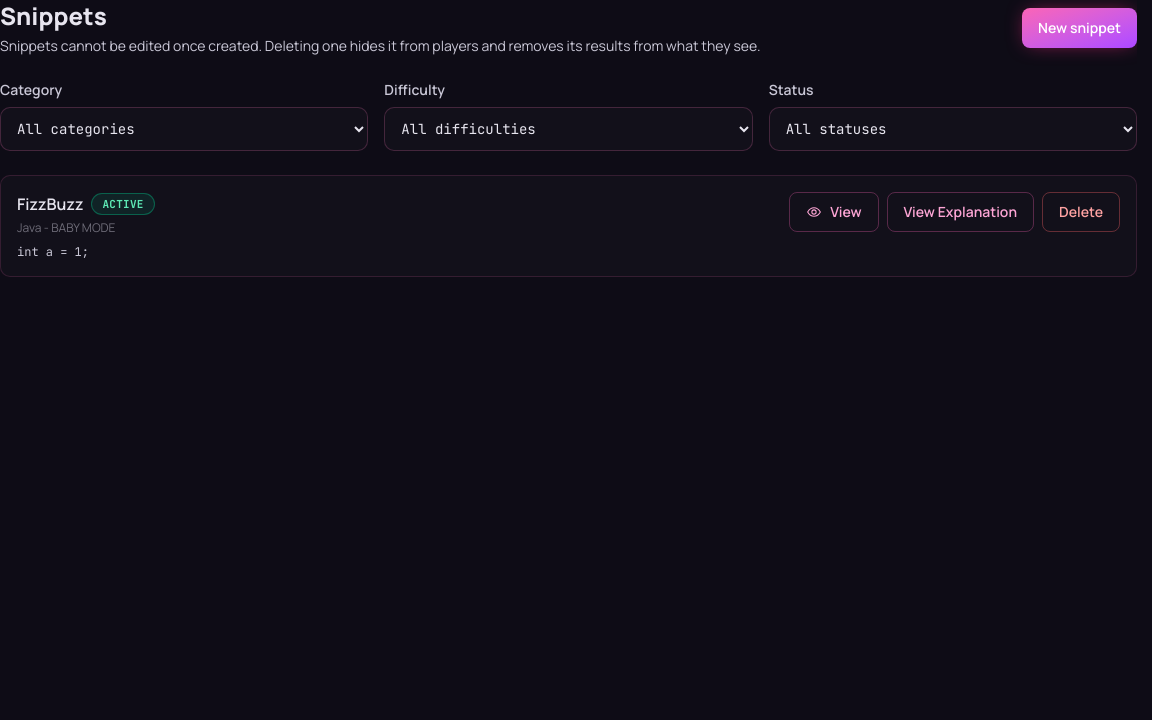
Test: SnippetsPage › deletes an active snippet after confirming it cannot be undone
Click the button "Delete" at (1081, 212), box [1042,192,1120,232]
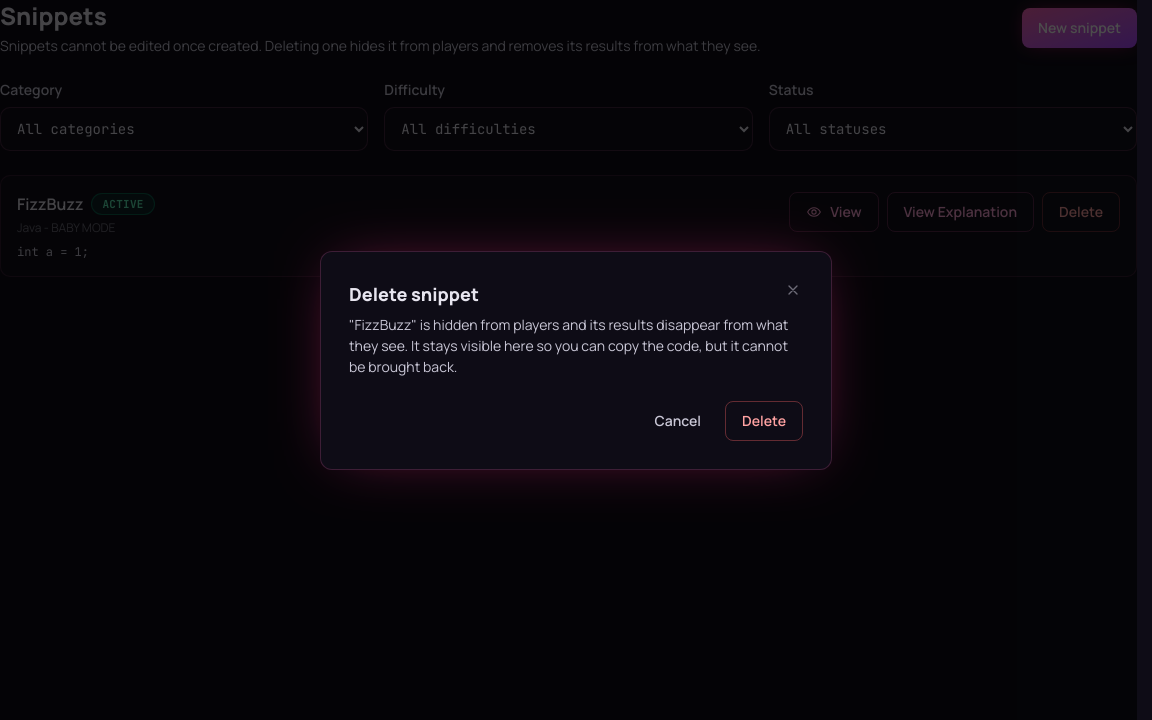
Click the button "Delete" at (764, 420), box [725,400,803,440]
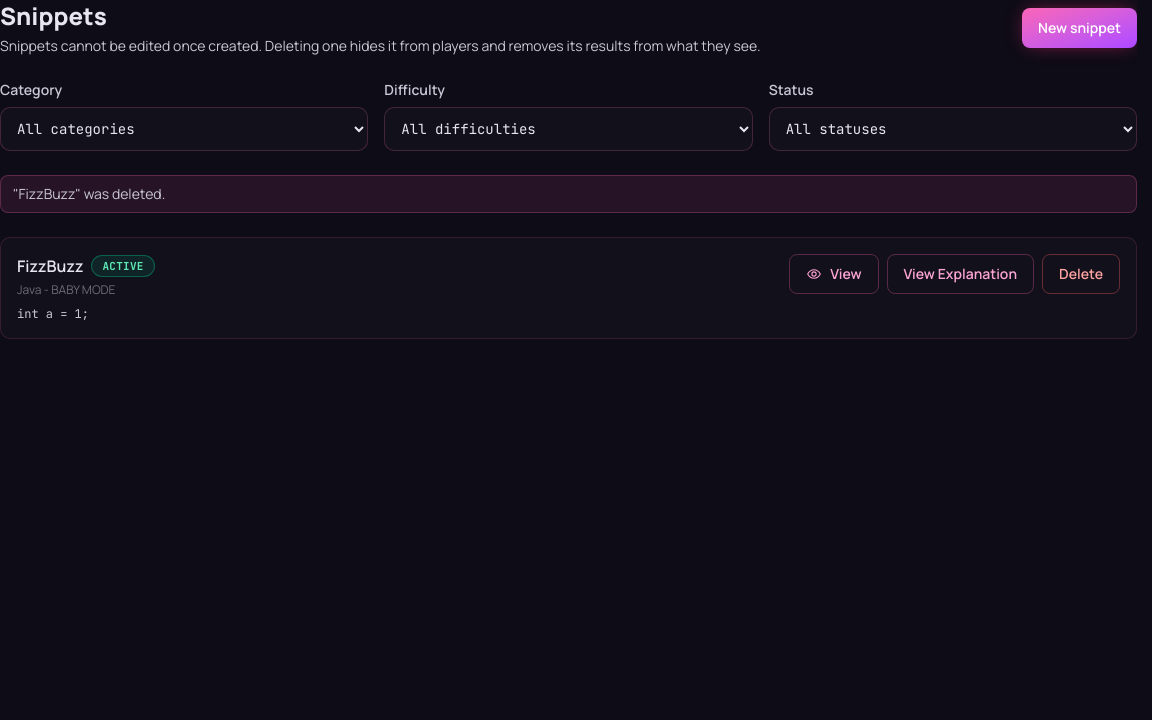
Check: the text "\"FizzBuzz\" was deleted." is shown, box [0,175,1137,213]
